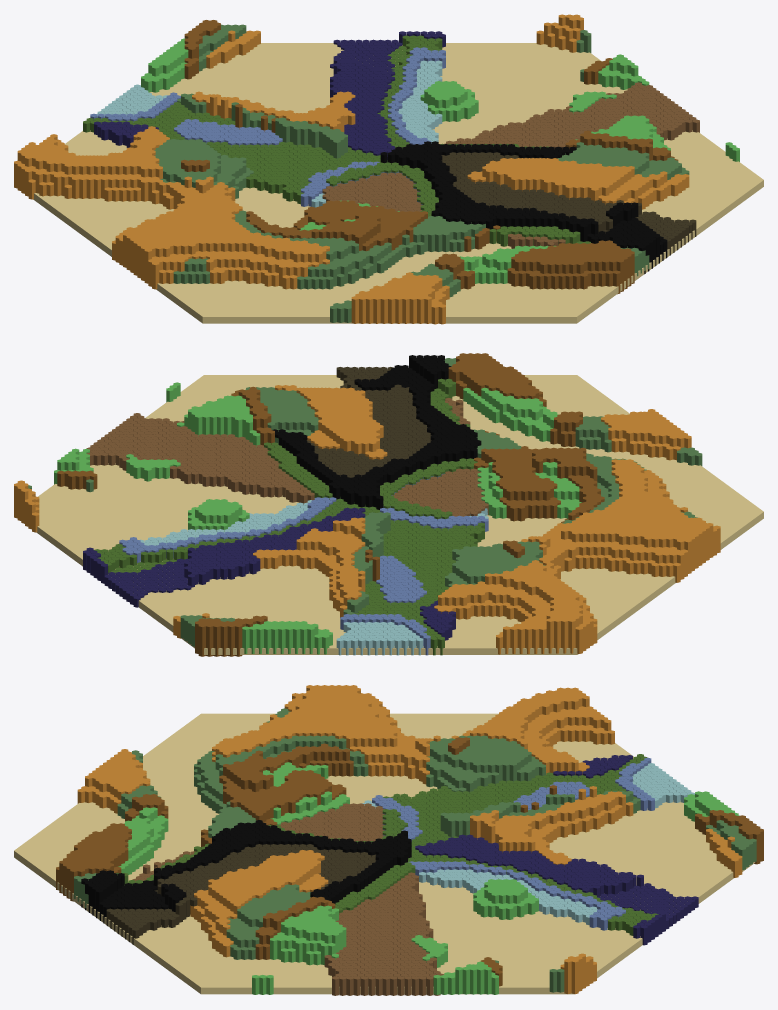
File: 0028_tile_1220011.fbx
3 renders of one model, top to bottom at view 1: azimuth 30°, elevation 25°; view 2: azimuth 150°, elevation 25°; view 3: azimuth 270°, elevation 25°, orthographic.
Visible parts, largest first — view 1: Plane; view 2: Plane; view 3: Plane.
Boxes of the visible parts, bbox=[...] form: Plane: bbox=[14, 14, 763, 324]; Plane: bbox=[14, 353, 763, 656]; Plane: bbox=[14, 685, 763, 995].
Bounding box in the file's own units: 1008 × 66.13 × 1152.
